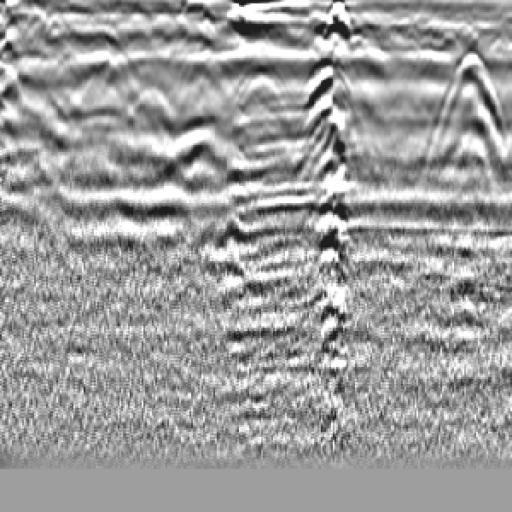metalic: (298, 6, 367, 391)
nonmetalic: (420, 30, 512, 231), (193, 43, 290, 176)
